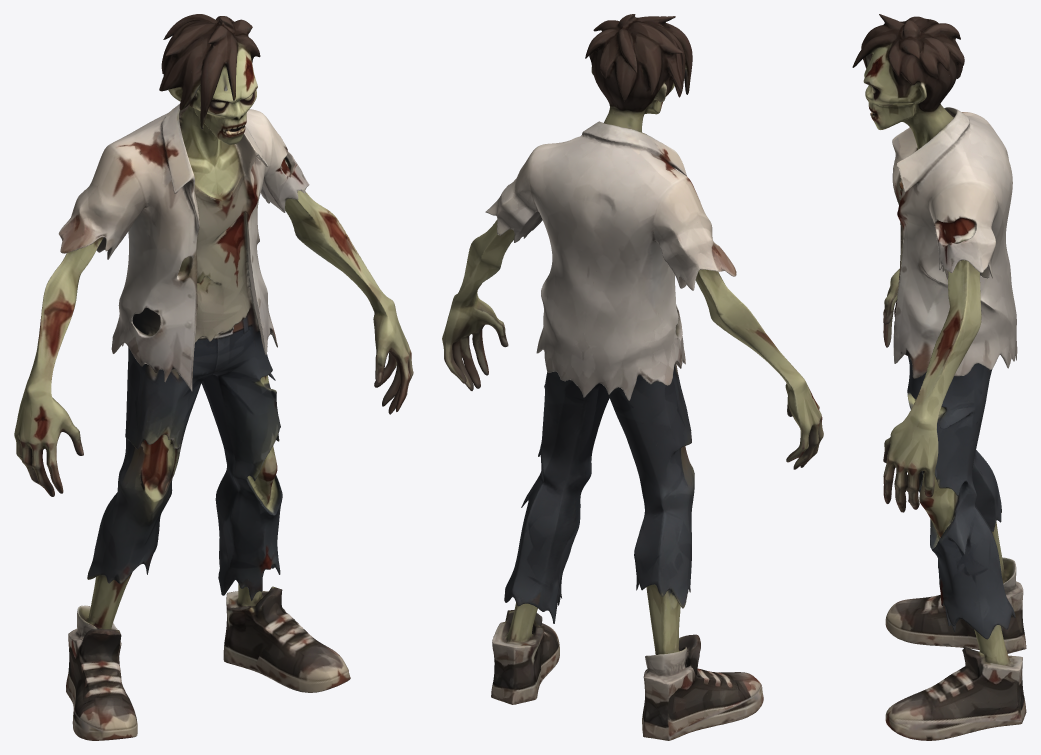
File: Meshy_AI_Shambling_Schoolyard__1021205901_texture.glb
3 views of the same model, side by side, from view 1: azimuth 30°, elevation 25°; view 2: azimuth 150°, elevation 25°; view 3: azimuth 270°, elevation 25° (orthographic). The views are drawn at different scales.
Size of the model in its own units: 1.11 by 1.9 by 0.4525.
1 material, 1 textured.
